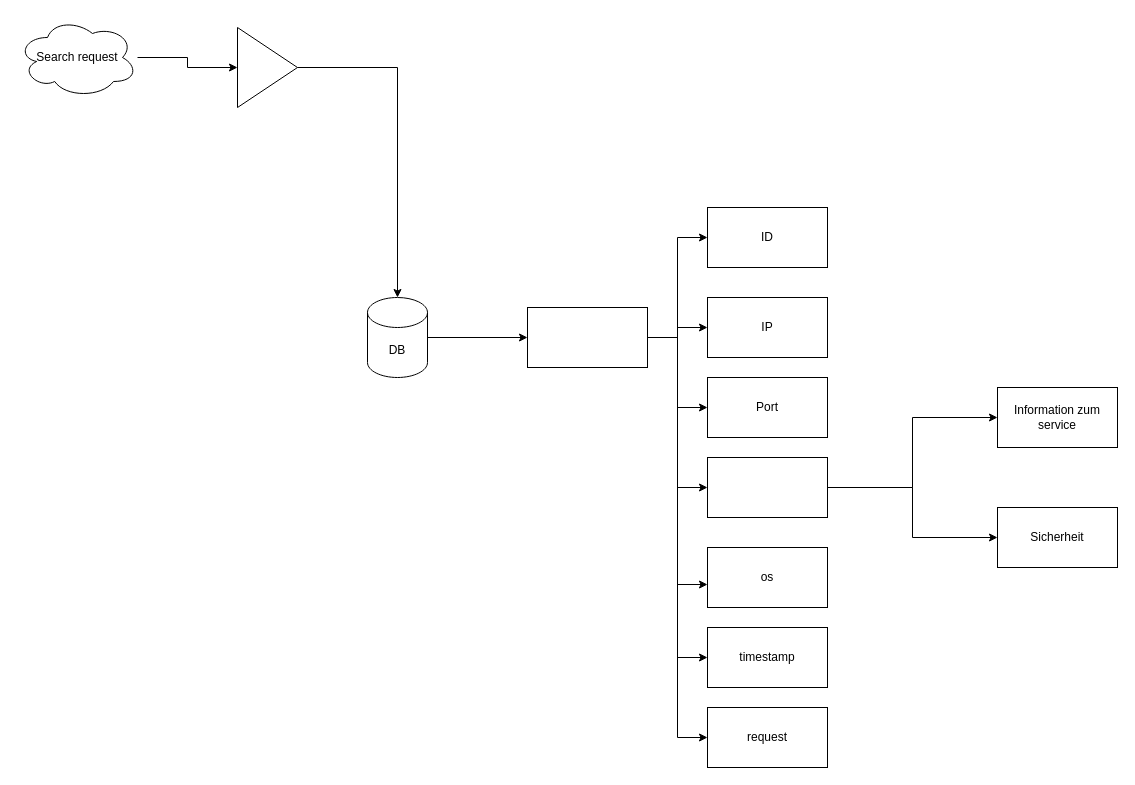
Image size: 1135x785. Some labels were removed from this diagram. Each missing label, with the box of its shape:
Entry: (526, 306, 648, 368)
script: (236, 26, 298, 108)
Service: (706, 456, 828, 518)
